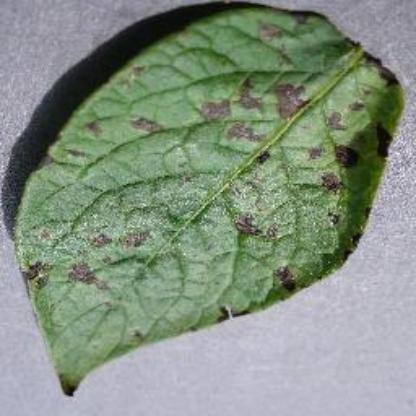Early-Blight: (14, 3, 400, 398)
